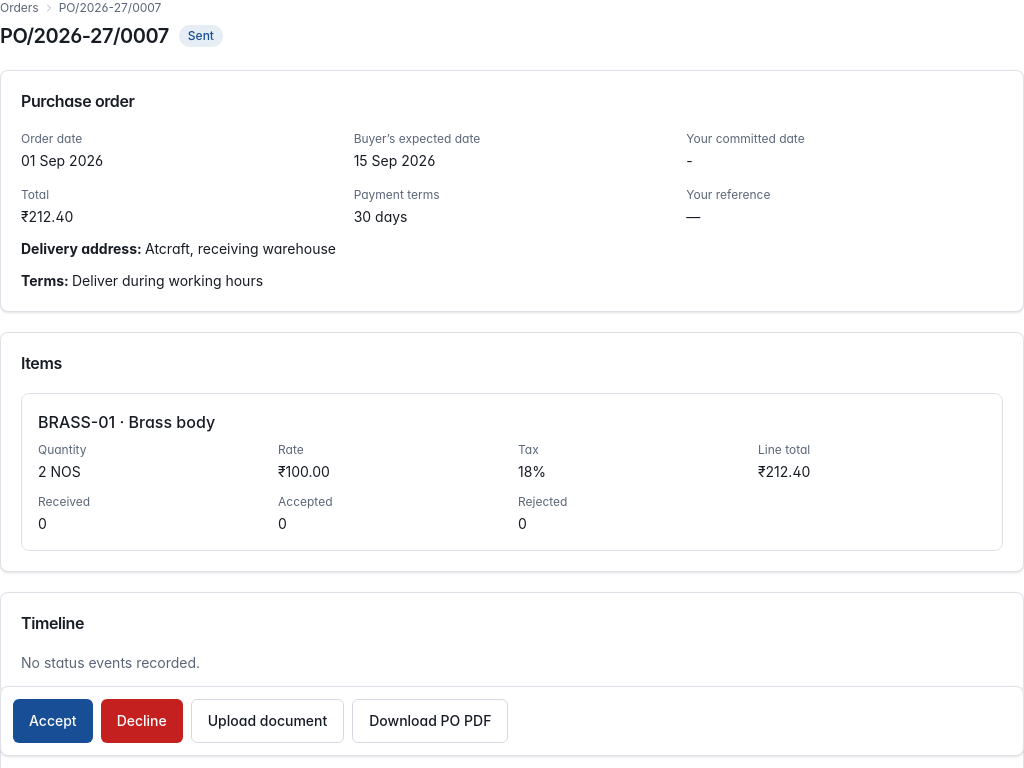
Test: vendor order action payloads › validates a required decline reason and maps server field errors inline
The image size is (1024, 768).
Click the button "Decline" at (142, 721), box [101, 699, 183, 743]
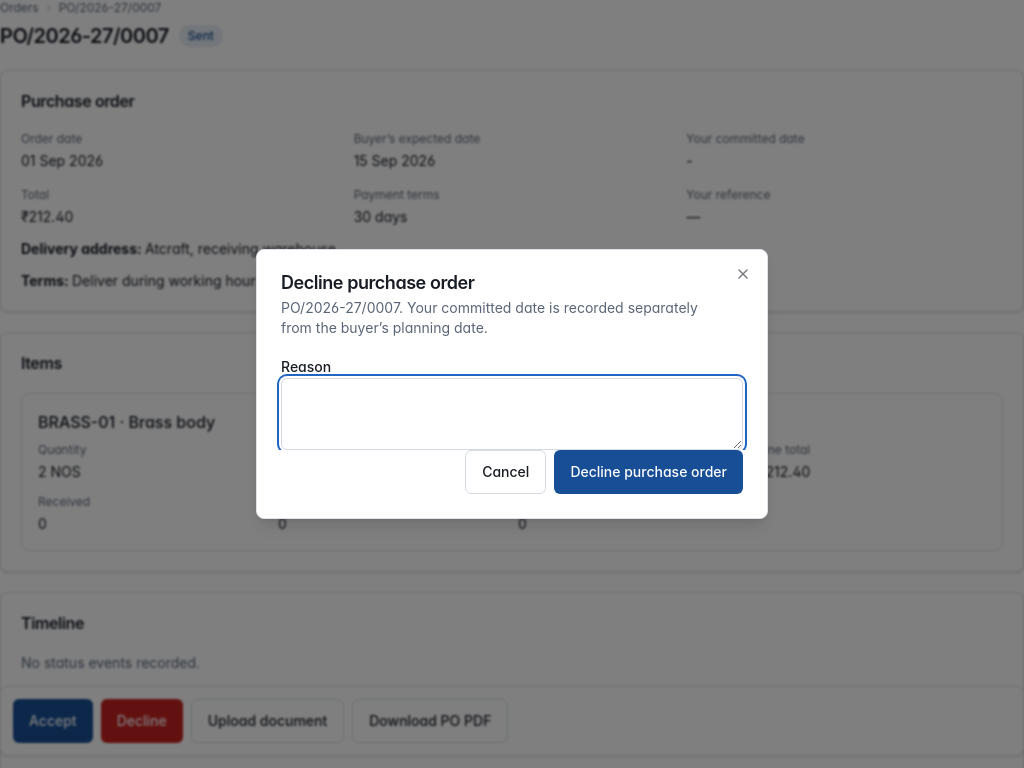
Click the button "Decline purchase order" at (649, 472), box [554, 450, 743, 494]
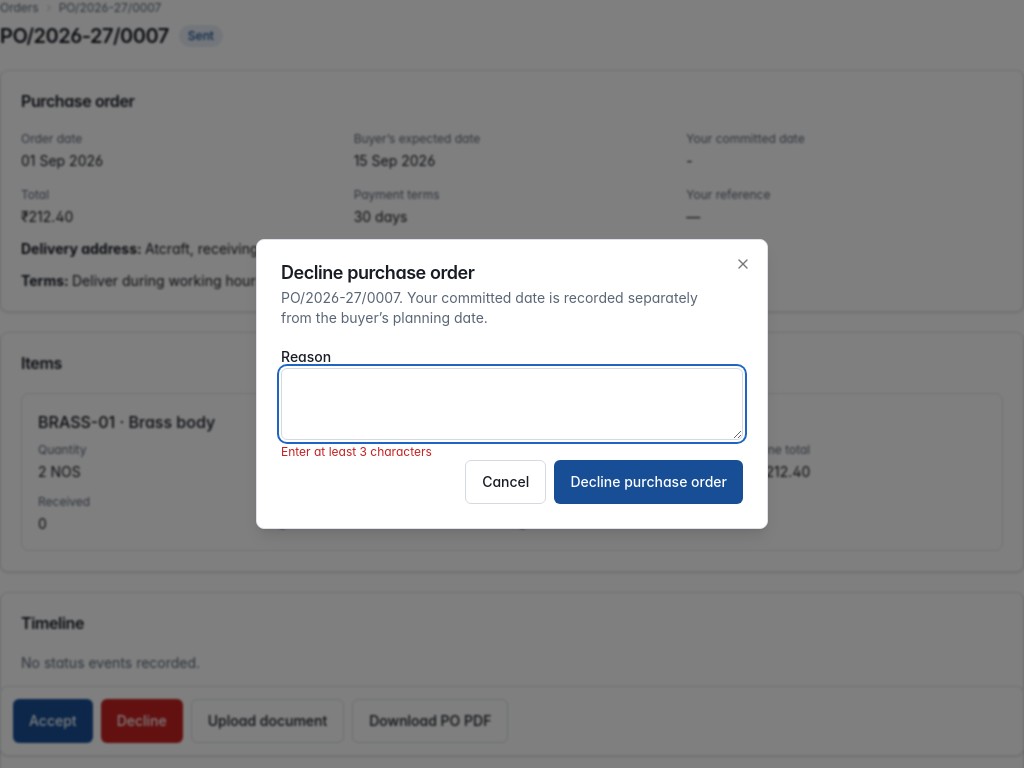
Expected: the text "Enter at least 3 characters" is shown, [281, 444, 432, 459]
Type "Unable to supply" into the text box labelled "Reason" at (512, 404), box [281, 368, 743, 440]
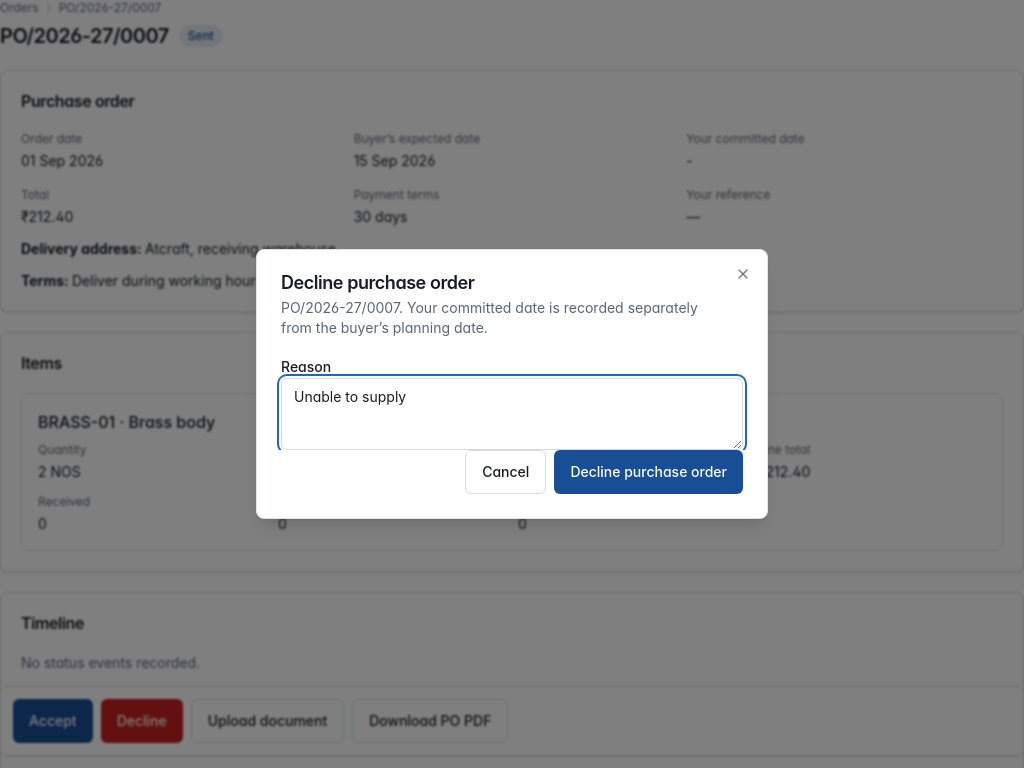
Click the button "Decline purchase order" at (649, 472), box [554, 450, 743, 494]
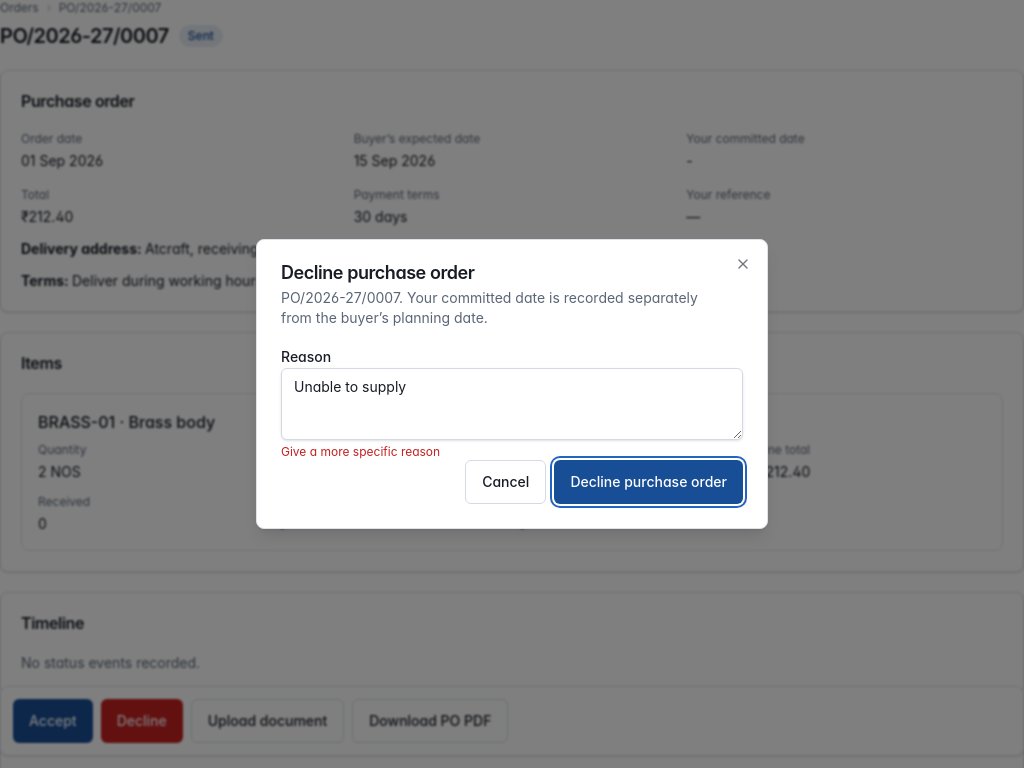
Expected: the text "Give a more specific reason" is shown, [281, 444, 440, 459]
